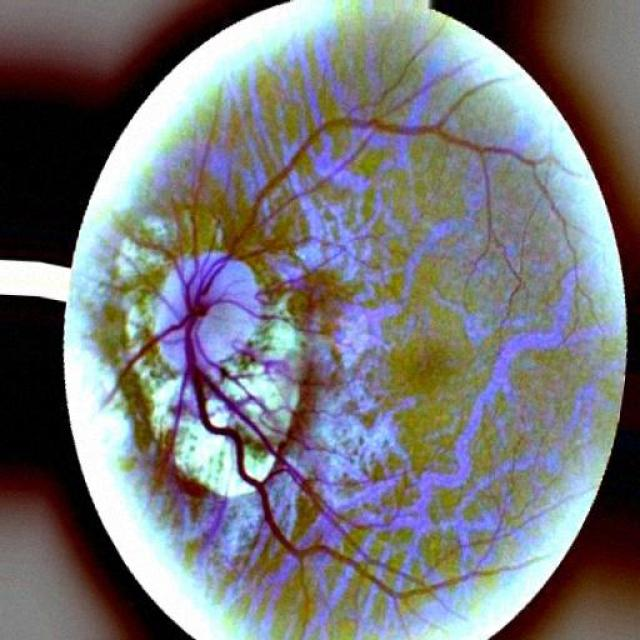Optic Disk: (118, 251, 300, 494)
